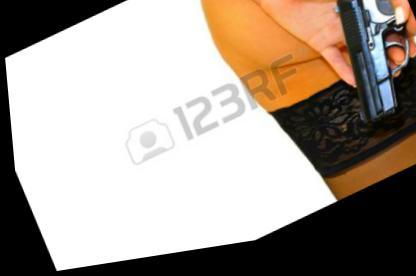pistol: (308, 0, 415, 143)
